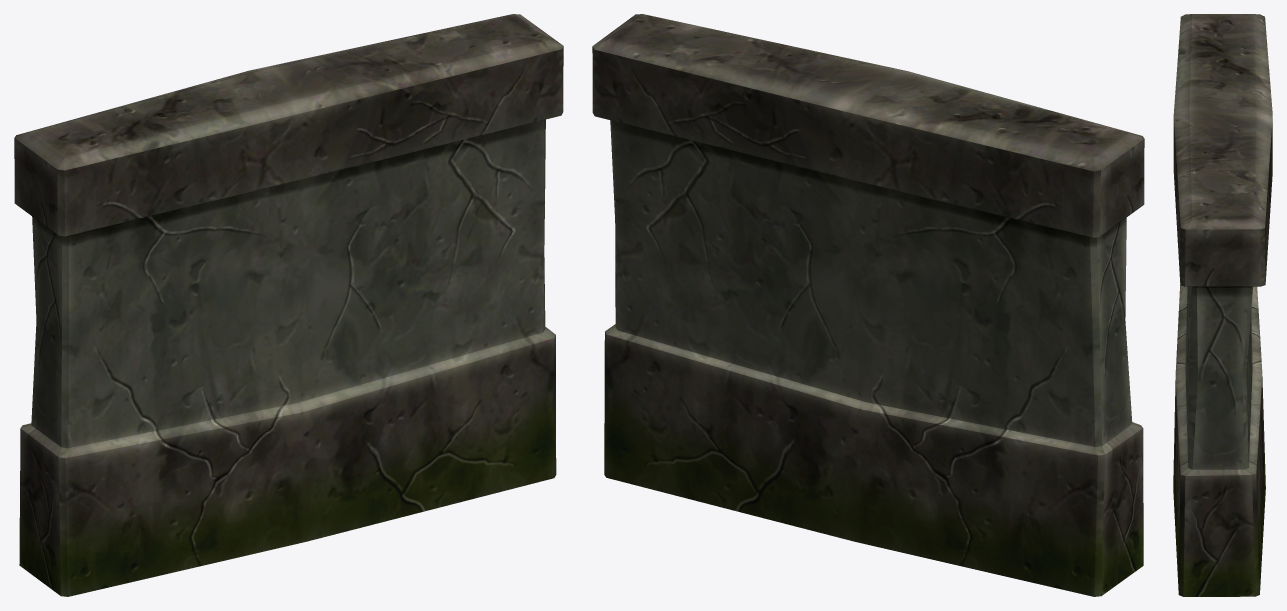
Rendered from Wall03.FBX.
3 views of the same model, side by side, from view 1: azimuth 30°, elevation 25°; view 2: azimuth 150°, elevation 25°; view 3: azimuth 270°, elevation 25° (orthographic). The views are drawn at different scales.
Visible parts, largest first — view 1: Wall03; view 2: Wall03; view 3: Wall03.
Part boxes in pixels (<box>): Wall03: <box>14,14,563,596</box>; Wall03: <box>592,14,1144,596</box>; Wall03: <box>1173,14,1272,596</box>.
Size of the model in its own units: 70.73 by 58.1 by 13.83.
